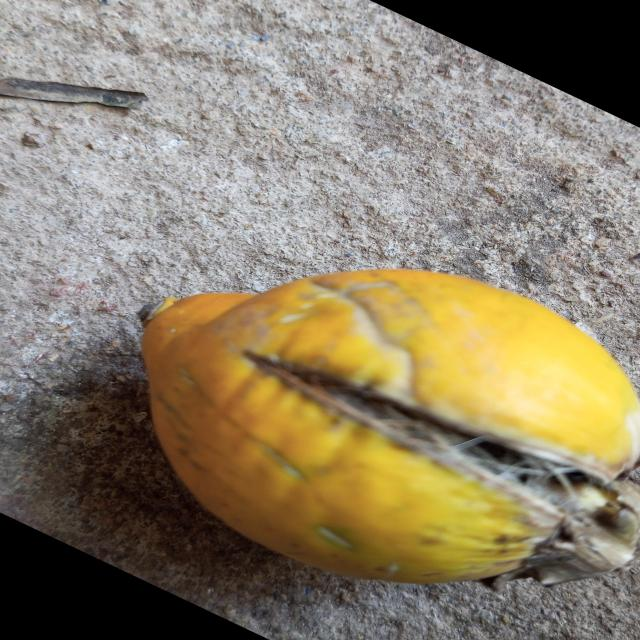damaged: (142, 269, 640, 589)
